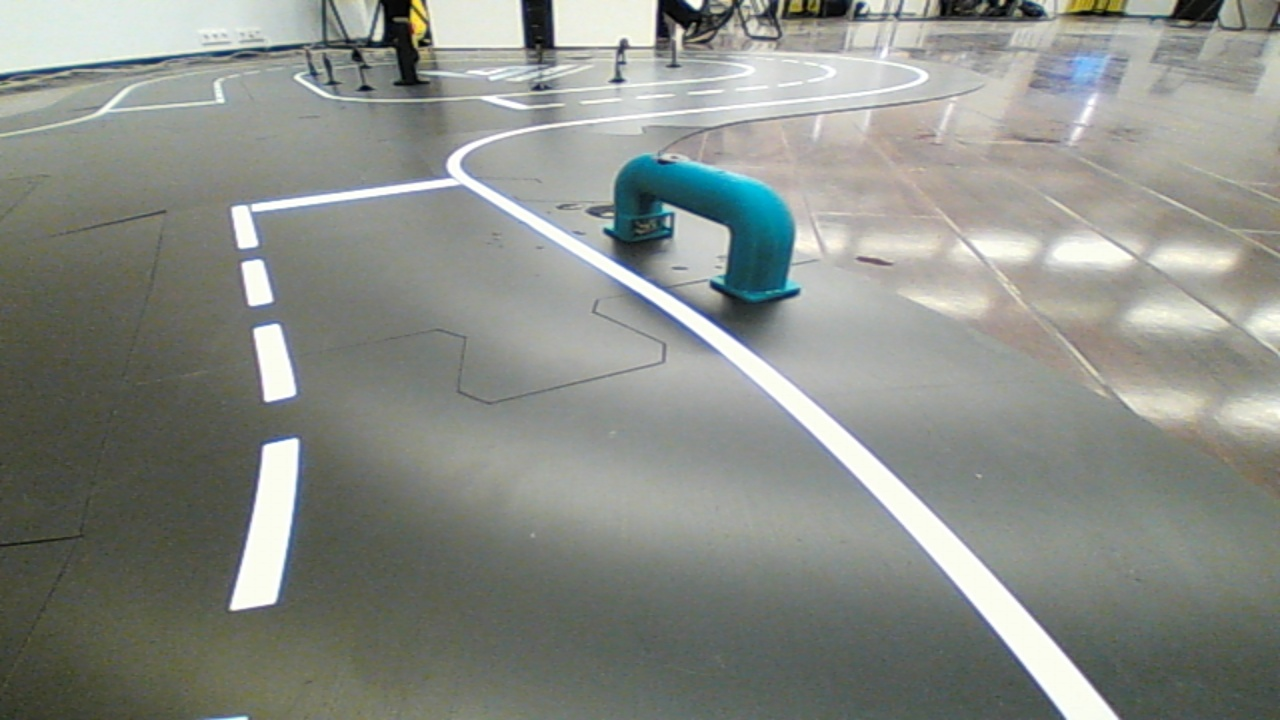Pedestrian crossing: (586, 138, 826, 325)
